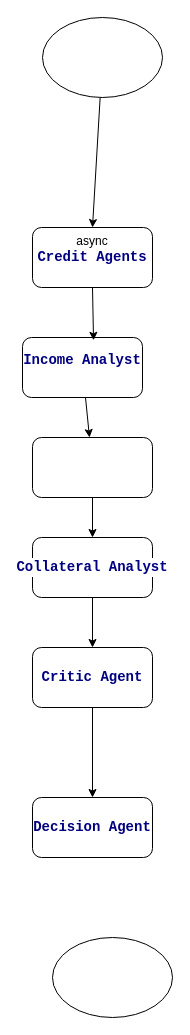
The diagram is 190 pixels wide and 1035 high, and some of its shapes have lost their labels. Each missing label, with the box of its shape:
Asset Analyst: (32, 436, 152, 498)
End: (52, 936, 172, 1018)
Start: (42, 16, 162, 98)
